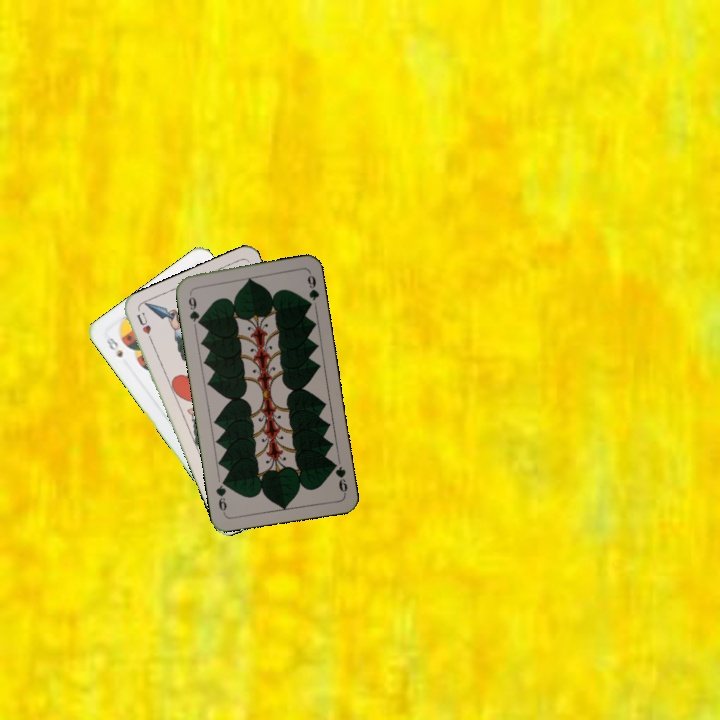G9: (327, 457, 350, 496), (184, 293, 204, 328)
HU: (133, 308, 156, 346)
S8: (102, 333, 126, 360)
